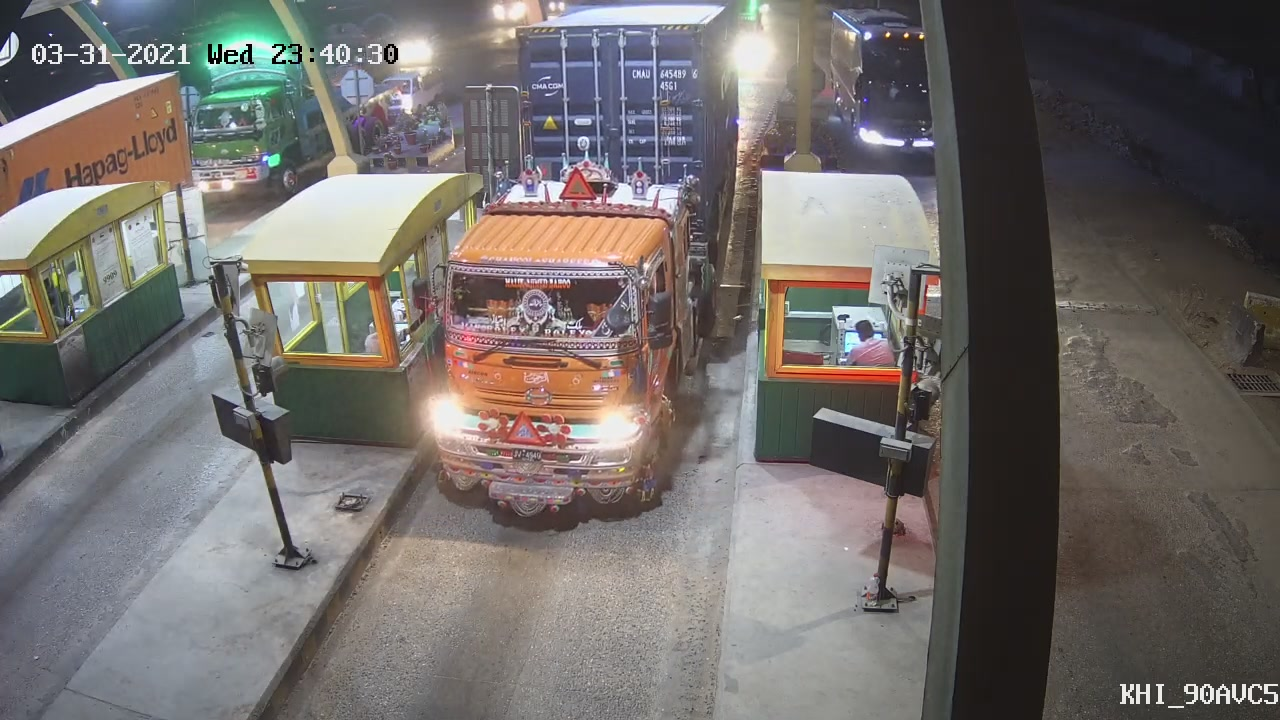F5: (417, 21, 726, 523)
